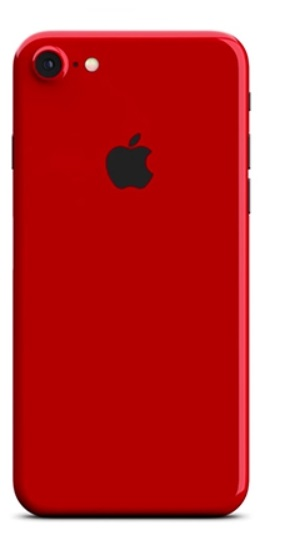Red: (10, 28, 253, 518)
